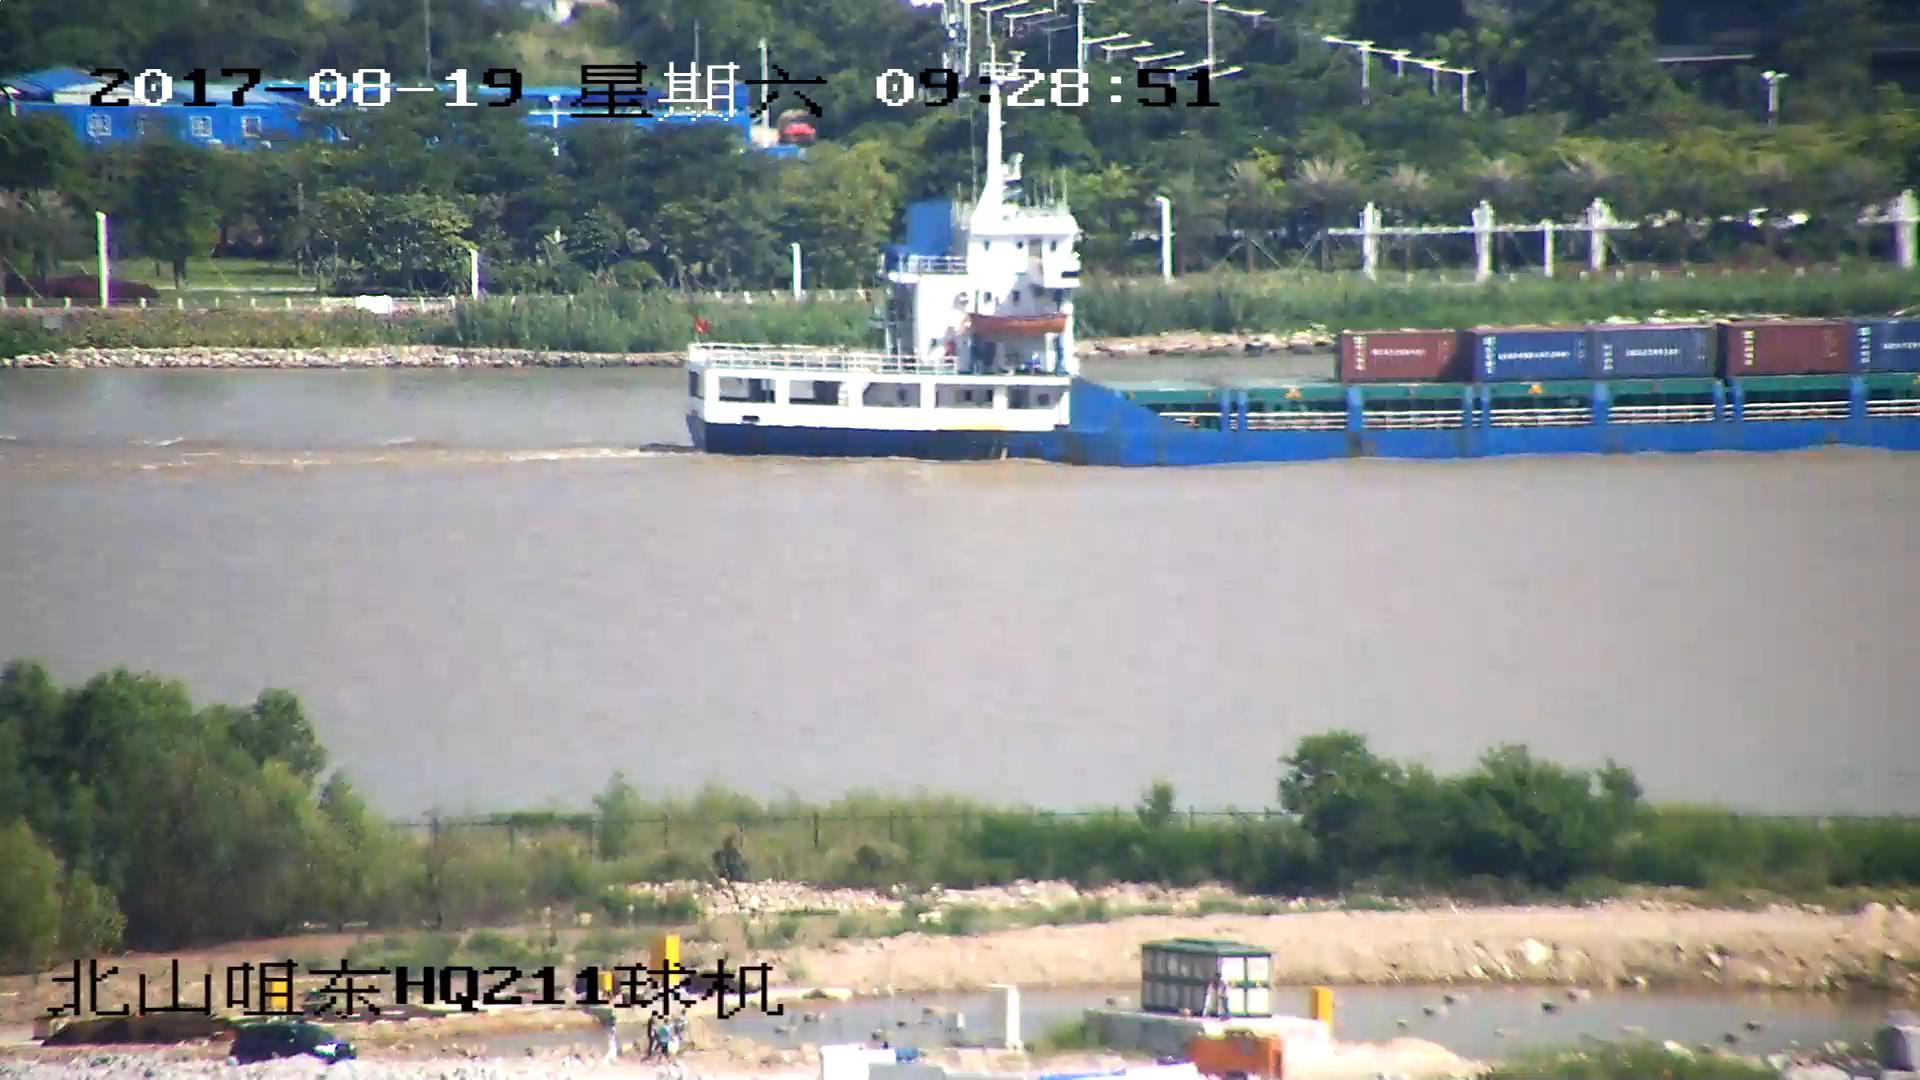Ship: (688, 120, 1920, 469)
